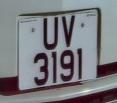1: (49, 48, 61, 87), (74, 46, 86, 84)
3: (30, 50, 51, 89)
9: (56, 46, 77, 86)
U: (40, 14, 62, 52)
V: (59, 12, 78, 49)
